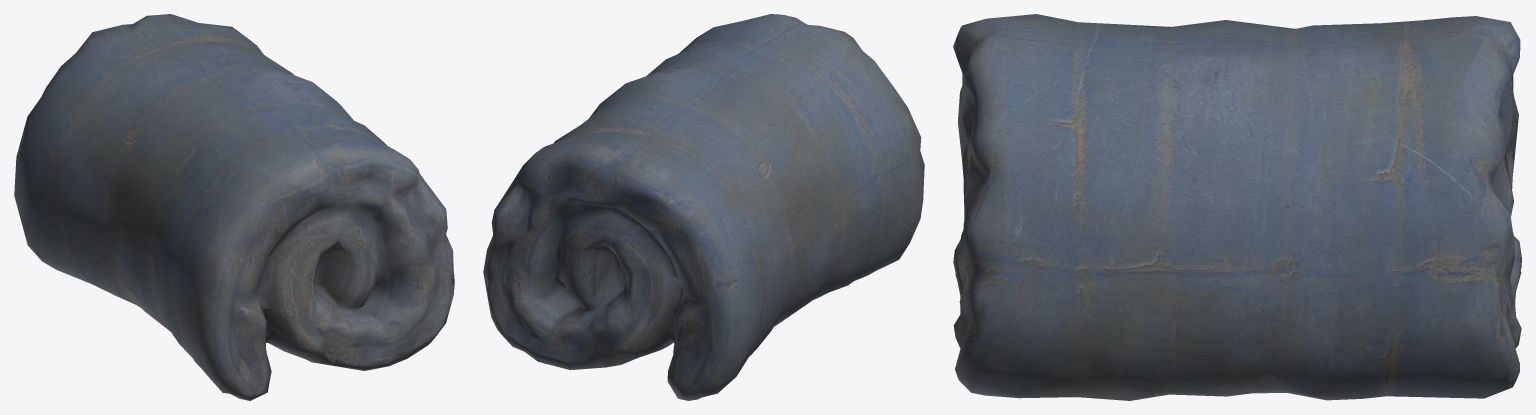
File: cobertor.glb
3 renders of one model, left to right at view 1: azimuth 30°, elevation 25°; view 2: azimuth 150°, elevation 25°; view 3: azimuth 270°, elevation 25°, orthographic. The views are drawn at different scales.
Parts seen in each view (by area): view 1: models\props\blanket_1.vmdl_c.blanket_1; view 2: models\props\blanket_1.vmdl_c.blanket_1; view 3: models\props\blanket_1.vmdl_c.blanket_1.
Part boxes in pixels (bbox=[...]): models\props\blanket_1.vmdl_c.blanket_1: bbox=[14, 14, 454, 400]; models\props\blanket_1.vmdl_c.blanket_1: bbox=[483, 14, 924, 400]; models\props\blanket_1.vmdl_c.blanket_1: bbox=[953, 14, 1521, 400].
Bounding box in the file's own units: 0.572 × 0.4879 × 0.7913.
1 material, 1 textured.
